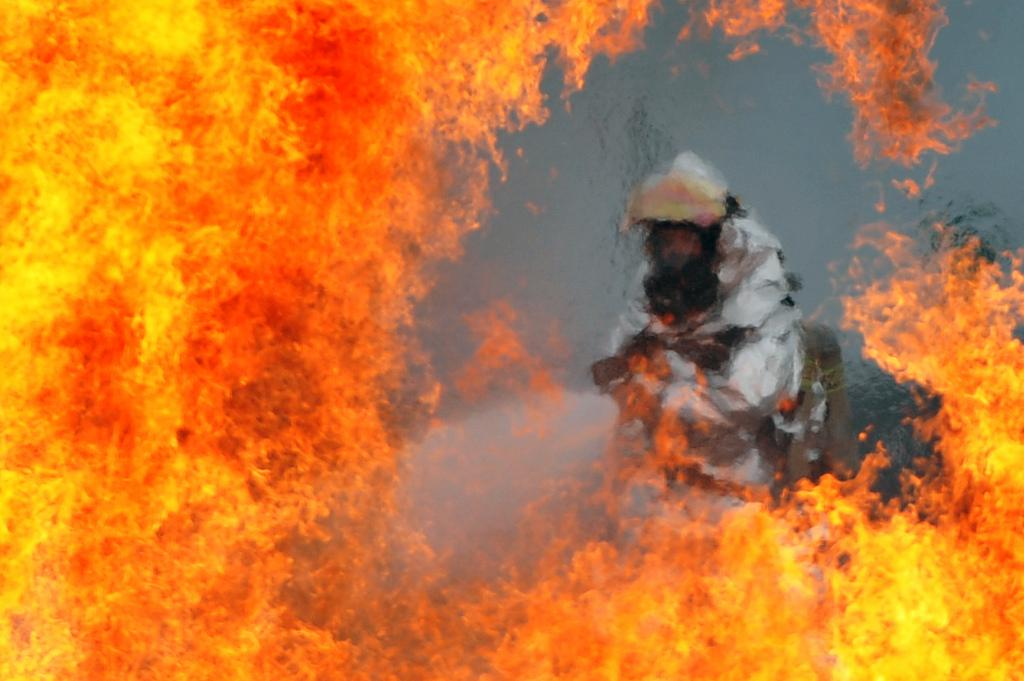fire: (8, 5, 385, 652), (877, 298, 1018, 665), (575, 542, 845, 670)
